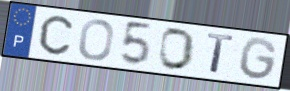5: (118, 19, 157, 69)
C: (38, 14, 75, 57)
G: (238, 36, 279, 82)
O: (158, 27, 198, 72), (77, 18, 116, 62)
T: (206, 32, 236, 76)
